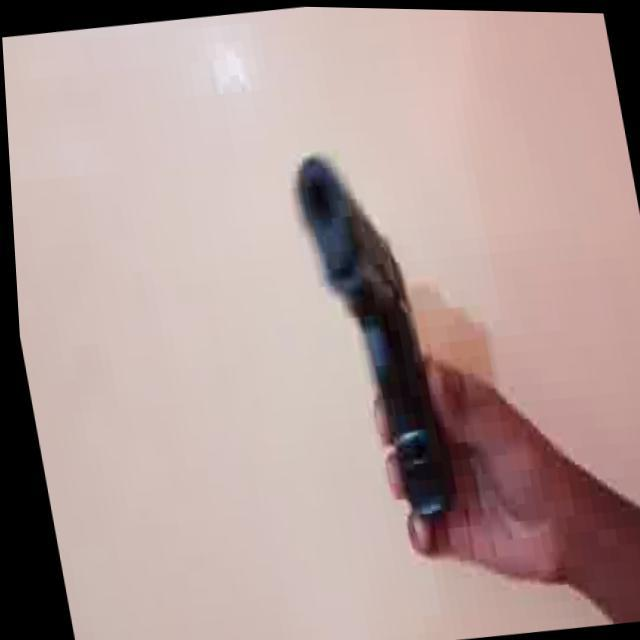weapon: (284, 138, 464, 536)
